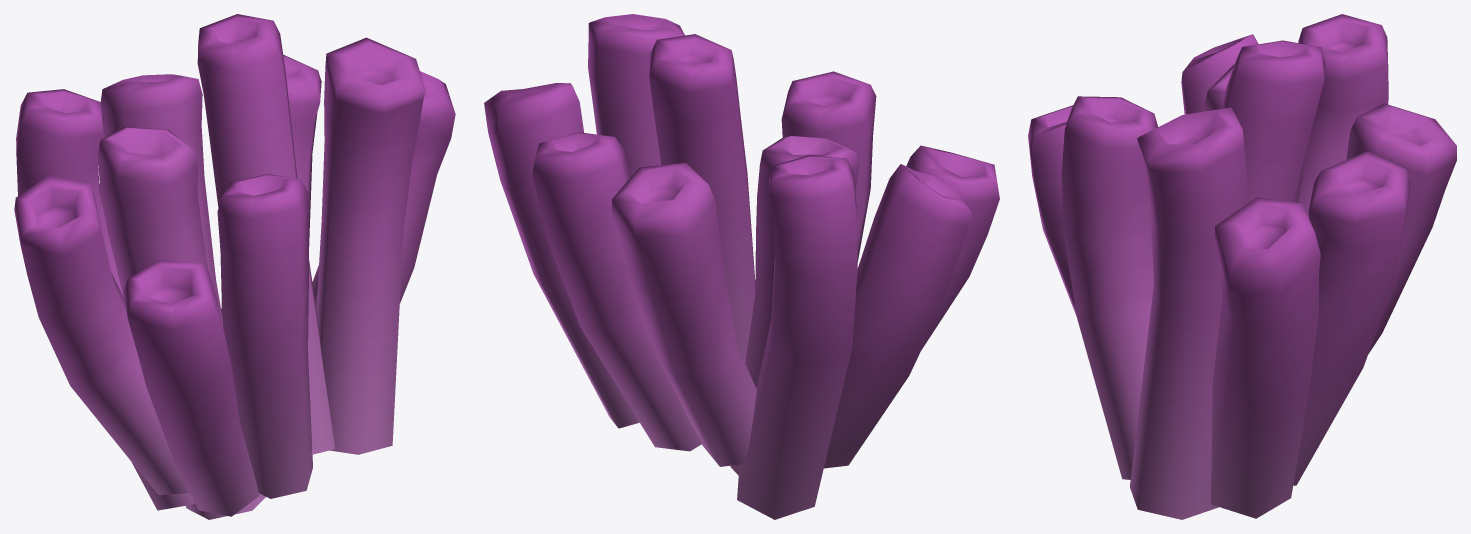
The model's file is CoralE.fbx.
3 views of the same model, side by side, from view 1: azimuth 30°, elevation 25°; view 2: azimuth 150°, elevation 25°; view 3: azimuth 270°, elevation 25° (orthographic). The views are drawn at different scales.
Visible parts, largest first — view 1: CoralE; view 2: CoralE; view 3: CoralE.
Boxes of the visible parts, bbox=[...] form: CoralE: bbox=[14, 14, 455, 519]; CoralE: bbox=[484, 14, 999, 519]; CoralE: bbox=[1028, 14, 1456, 519].
Size of the model in its own units: 39.28 by 37.12 by 30.14.
1 material, 1 textured.
